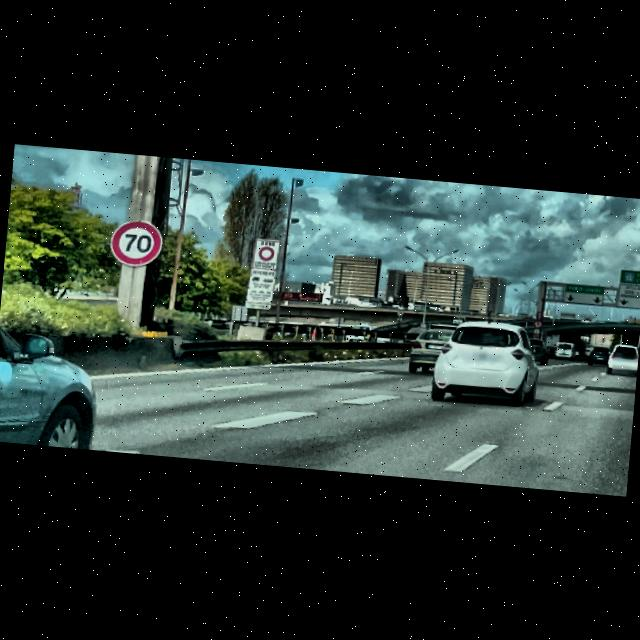speed_70: (110, 218, 164, 270)
